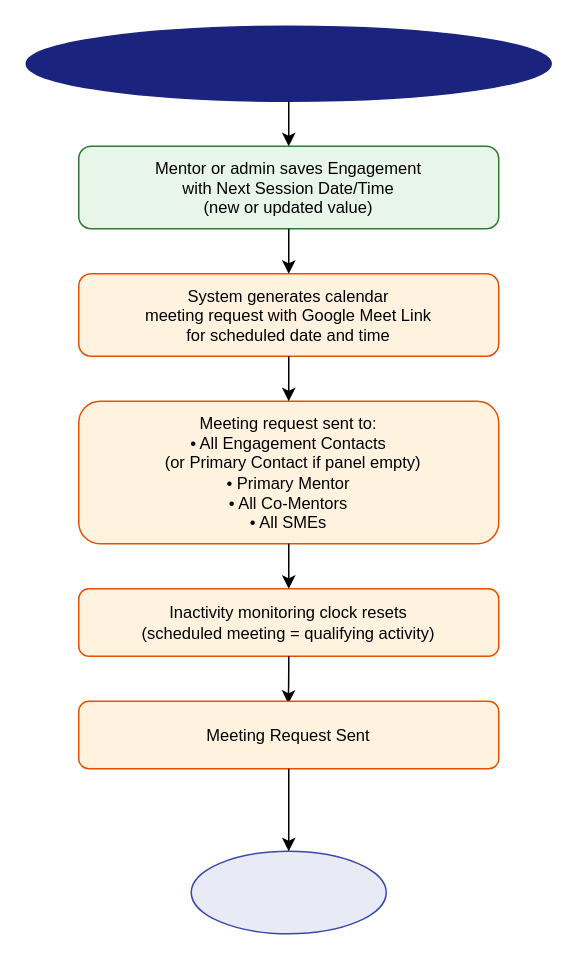
The diagram is 578 pixels wide and 960 high, and some of its shapes have lost their labels. Each missing label, with the centre of its shape:
"4.8 — Meeting Request" goes at point (288, 63).
"Go To 4.9 Session Summary" goes at point (288, 892).
